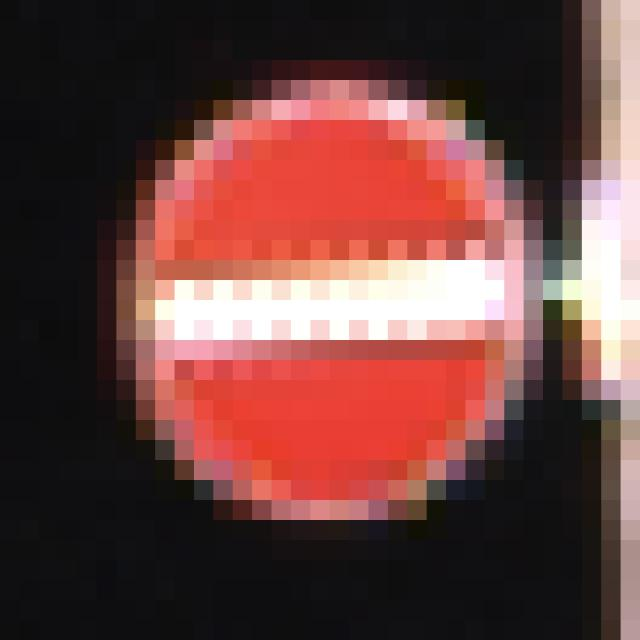No Entry: (117, 101, 525, 541)
